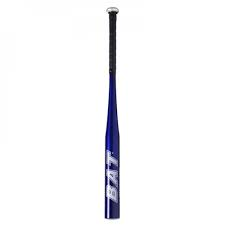baseball bat: (101, 6, 123, 220)
